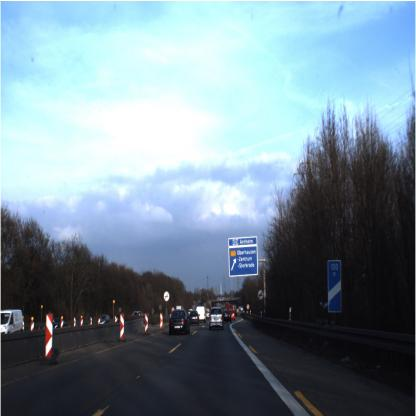restriction ends 80: (257, 289, 264, 300), (163, 290, 169, 302)
